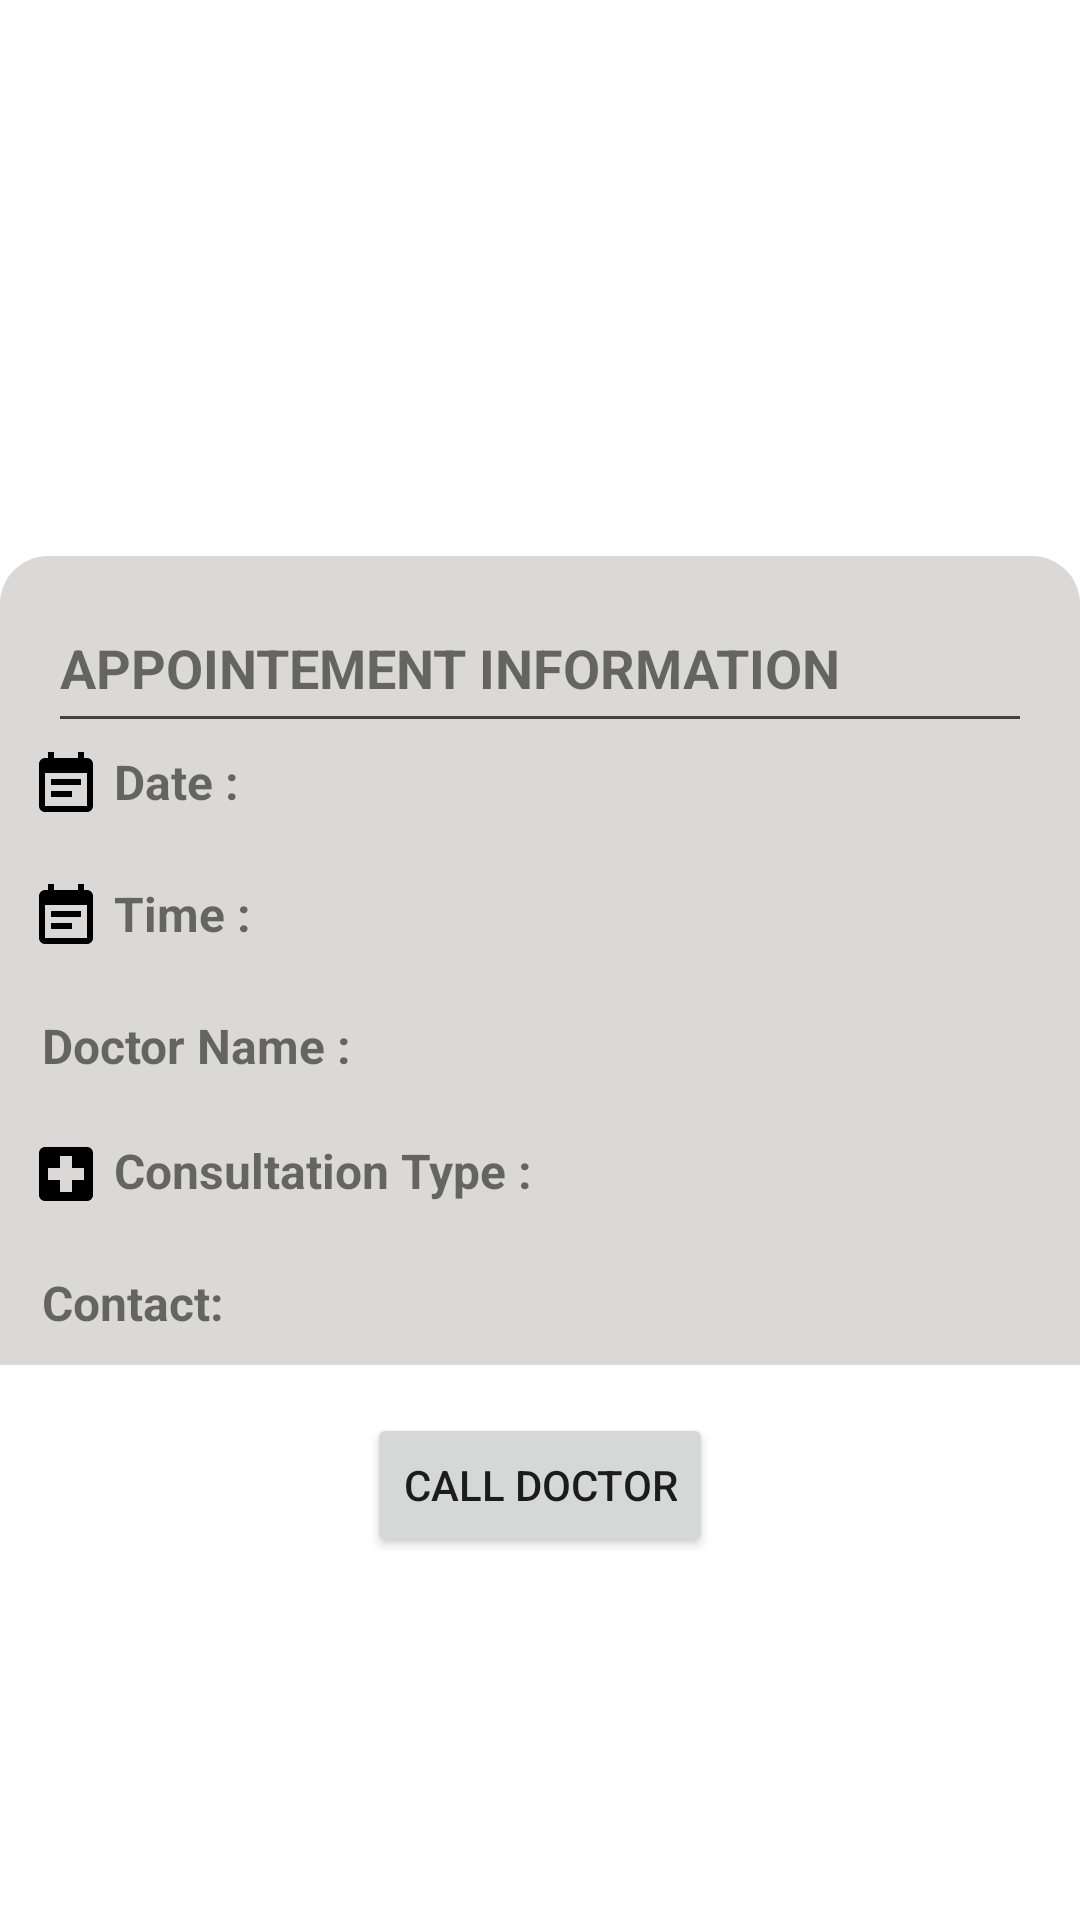

Named icons in this screenshot (1080 × 1920) and their centers, point (x, y):
local hospital: point (66, 1174)
